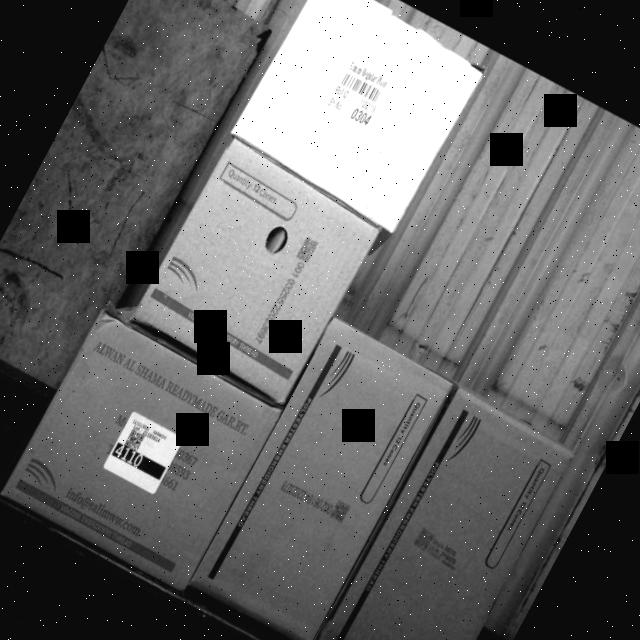box: (192, 317, 453, 640), (0, 311, 281, 594), (307, 379, 579, 640), (129, 142, 375, 404), (224, 0, 494, 234)
